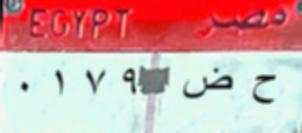0: (13, 73, 33, 98)
1: (47, 66, 70, 98)
7: (83, 65, 107, 99)
7aa: (252, 66, 281, 109)
9: (120, 66, 139, 98)
daad: (183, 68, 235, 100)
